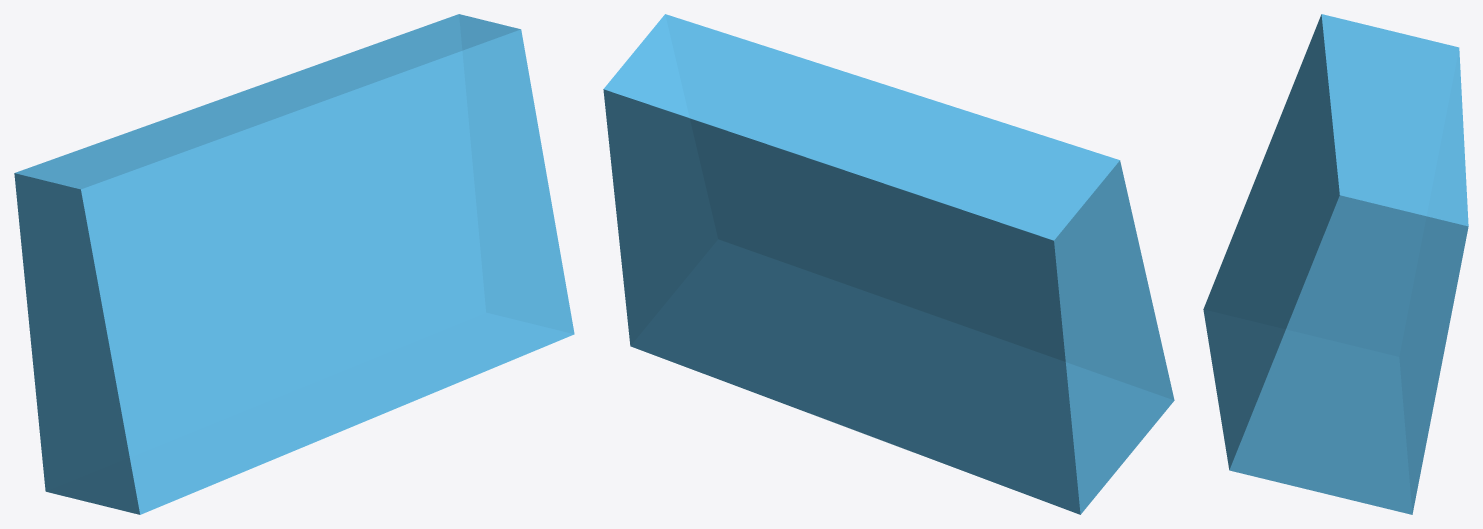
File: Event_420604493_HErechit_58.fbx
3 views of the same model, side by side, from view 1: azimuth 30°, elevation 25°; view 2: azimuth 150°, elevation 25°; view 3: azimuth 270°, elevation 25° (orthographic). The views are drawn at different scales.
Parts seen in each view (by area): view 1: Model; view 2: Model; view 3: Model.
Boxes of the visible parts, box(x1,y1,x2,y2) form: Model: box(14, 14, 574, 514); Model: box(603, 14, 1174, 514); Model: box(1203, 14, 1468, 514).
Size of the model in its own units: 0.7763 by 0.6182 by 0.3836.
